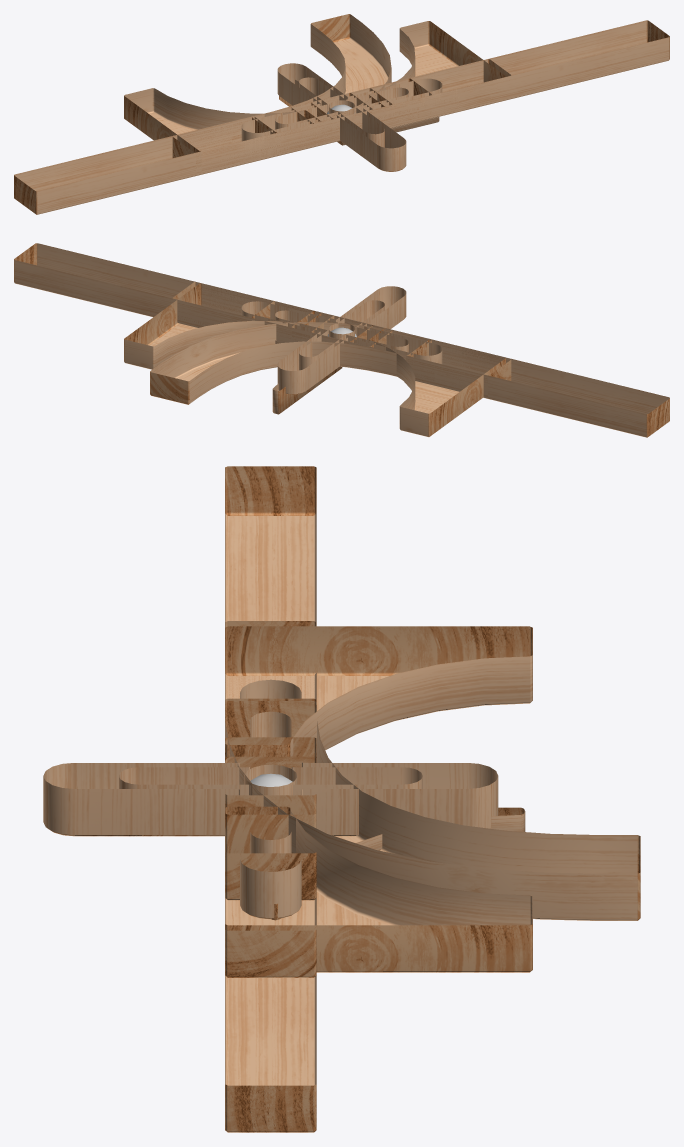
The model's file is MarbelRun3.fbx.
The picture shows the model from 3 angles, top to bottom: view 1: azimuth 30°, elevation 25°; view 2: azimuth 150°, elevation 25°; view 3: azimuth 270°, elevation 25°; orthographic projection. The views are drawn at different scales.
Parts seen in each view (by area): view 1: Plank_full, dip, spinny_big, Curve, Plank_3/4, spinny, Plank_1/2, Plank_1/4, ramp, Plank_cube; view 2: Plank_full, dip, Curve, Plank_3/4, spinny_big, spinny, ramp, Plank_1/4, Plank_1/2, Plank_cube; view 3: dip, Plank_full, Curve, spinny_big, spinny, Plank_3/4, Plank_1/4, Plank_1/2, Plank_cube, ramp, peg.
Part boxes in pixels (x1,y1,x2,y2): Plank_full: (14,20,669,214); dip: (124,21,505,174); spinny_big: (241,63,442,171); Curve: (254,14,391,133); Plank_3/4: (172,59,511,176); spinny: (275,77,408,147); Plank_1/2: (252,78,431,149); Plank_1/4: (291,88,392,146); ramp: (279,80,439,145); Plank_cube: (311,93,372,142); Plank_full: (14,243,669,437); dip: (124,283,505,437); Curve: (150,322,429,404); Plank_3/4: (172,282,511,398); spinny_big: (241,286,442,394); spinny: (275,300,408,370); ramp: (272,340,342,414); Plank_1/4: (291,311,392,347); Plank_1/2: (252,301,431,362); Plank_cube: (311,315,372,343); dip: (225,626,532,972); Plank_full: (225,466,316,1132); Curve: (225,701,640,920); spinny_big: (43,679,498,919); spinny: (119,711,422,853); Plank_3/4: (225,621,316,977); Plank_1/4: (225,737,316,853); Plank_1/2: (225,698,316,900); Plank_cube: (225,756,316,814); ramp: (271,807,525,920); peg: (244,764,297,795).
Bounding box in the file's own units: 103 × 6.25 × 41.97.
